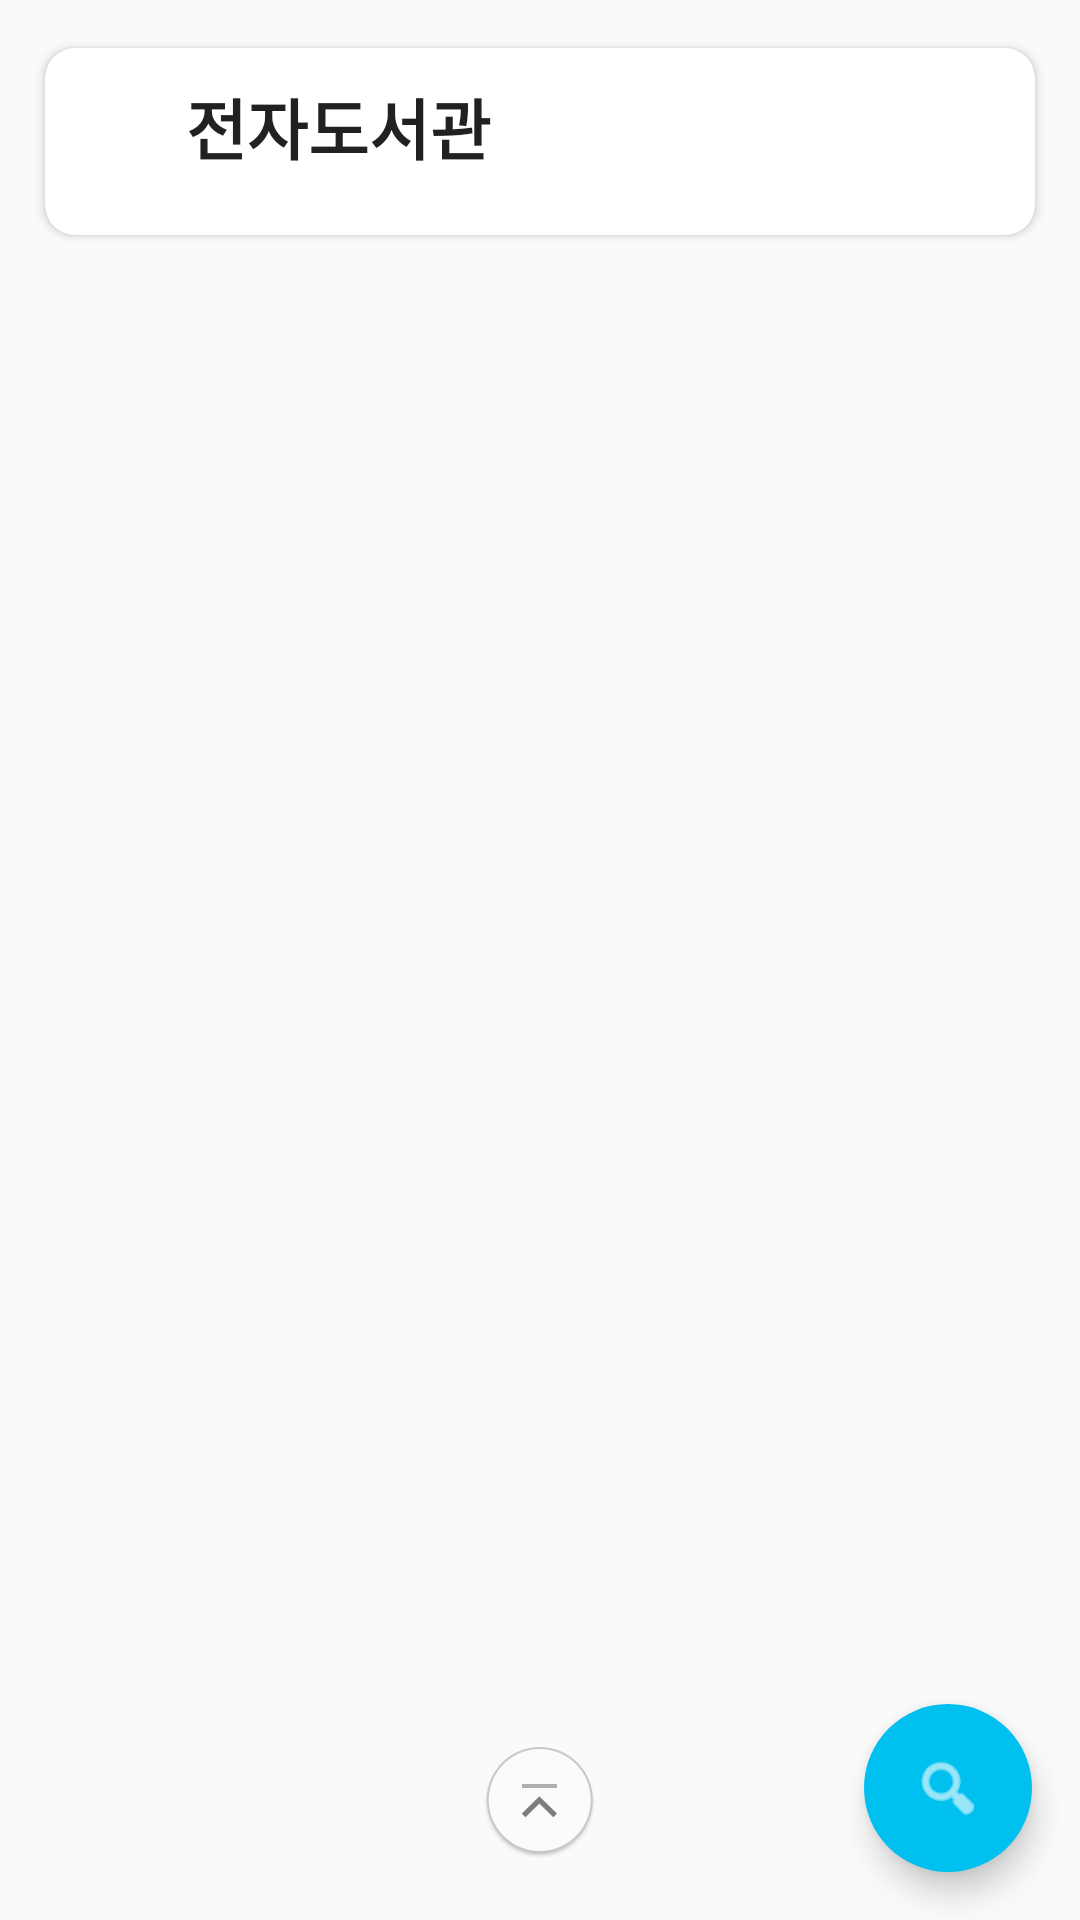

Where to tap for icons on this 1080 × 1920 app screen, as (x=x, y=y):
go to top: (x=540, y=1801)
search: (x=948, y=1788)
